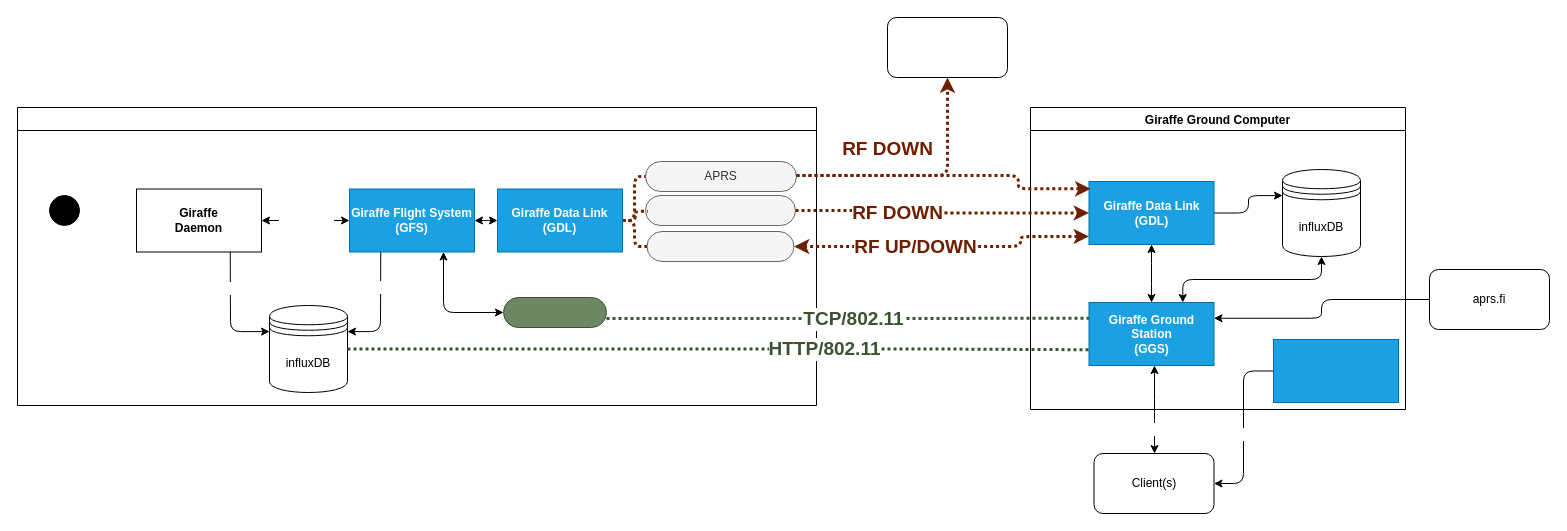
The diagram is 1567 pixels wide and 531 high, and some of its shapes have lost their labels. The shapes that lost their labels are listed below. From the top down, each one's box as (x1, y1, x2, y2) in pixels, then its label:
(886, 16, 1008, 78): APRS Network
(644, 194, 796, 226): SSTV
(16, 106, 816, 406): Giraffe Flight Computer
(646, 230, 794, 262): AX.25 (AFSK/PSK)
(502, 296, 606, 328): TCP Socket
(1272, 338, 1398, 402): Giraffe Web Client (GWC)
